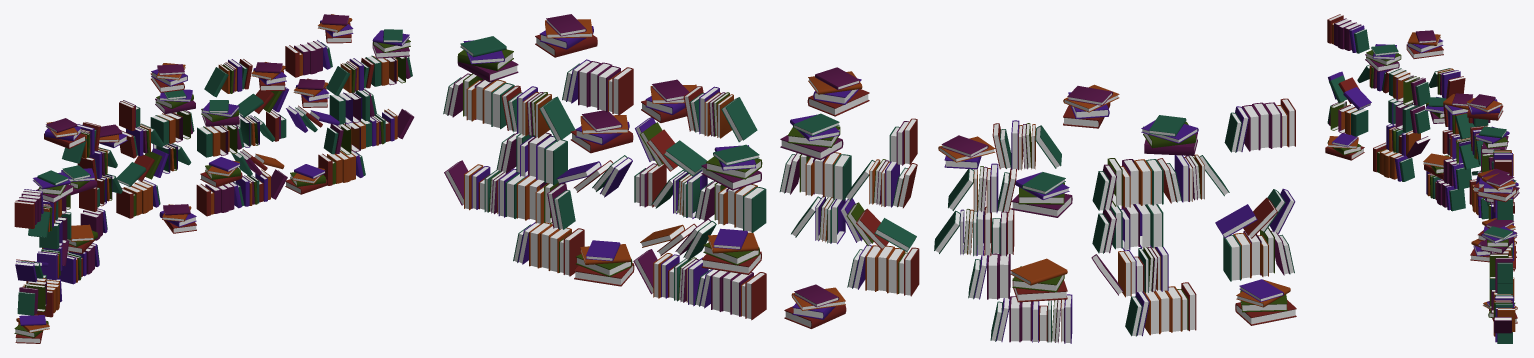
The model's file is books (1).glb.
The picture shows the model from 3 angles, left to right: view 1: azimuth 30°, elevation 25°; view 2: azimuth 150°, elevation 25°; view 3: azimuth 270°, elevation 25°; orthographic projection. The views are drawn at different scales.
Parts seen in each view (by area): view 1: Cube.018, Cube.026, Cube.017, Cube.036, Cube.011, Cube.027, Cube.058, Cube.013, Cube.020, Cube.025, Cube.032, Cube.021 (+40 smaller); view 2: Cube.059, Cube.062, Cube.018, Cube.068, Cube.027, Cube.061, Cube.026, Cube.069, Cube.011, Cube.025, Cube.058, Cube.013 (+41 smaller); view 3: Cube.062, Cube.059, Cube.069, Cube.068, Cube.061, Cube.064, Cube.060, Cube.067, Cube.023, Cube.055, Cube.021, Cube.063 (+27 smaller).
Part boxes in pixels (x1,y1,x2,y2): Cube.018: (285,40,332,77); Cube.026: (323,119,371,154); Cube.017: (329,89,376,124); Cube.036: (197,125,244,157); Cube.011: (196,181,244,216); Cube.027: (116,179,160,218); Cube.058: (204,59,252,97); Cube.013: (326,58,374,96); Cube.020: (235,169,287,206); Cube.025: (318,150,365,185); Cube.032: (150,110,194,145); Cube.021: (369,109,414,146); Cube.059: (1092,158,1163,210); Cube.062: (1224,98,1295,152); Cube.018: (562,59,633,115); Cube.068: (1125,282,1196,336); Cube.027: (847,245,919,296); Cube.061: (1092,202,1163,253); Cube.026: (505,172,575,229); Cube.069: (1223,227,1294,281); Cube.011: (695,269,766,320); Cube.025: (513,222,584,276); Cube.058: (683,86,757,142); Cube.013: (501,85,575,141); Cube.062: (1327,14,1369,53); Cube.059: (1389,68,1430,106); Cube.069: (1327,101,1368,136); Cube.068: (1373,142,1414,181); Cube.061: (1388,98,1430,133); Cube.064: (1386,124,1430,158); Cube.060: (1328,71,1371,110); Cube.067: (1406,30,1443,58); Cube.023: (1478,172,1516,202); Cube.055: (1428,68,1465,98); Cube.021: (1494,296,1515,333); Cube.063: (1365,44,1401,71).
Bounding box in the file's own units: 7.25 × 2.34 × 2.71.
